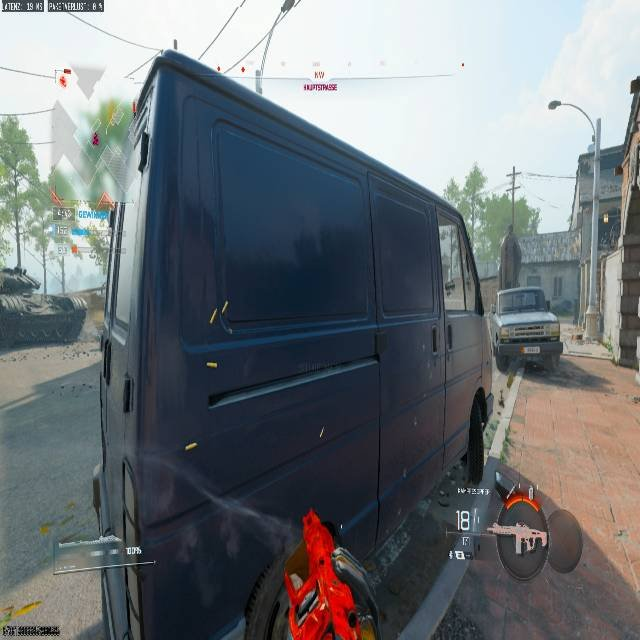player: (444, 279, 455, 297)
